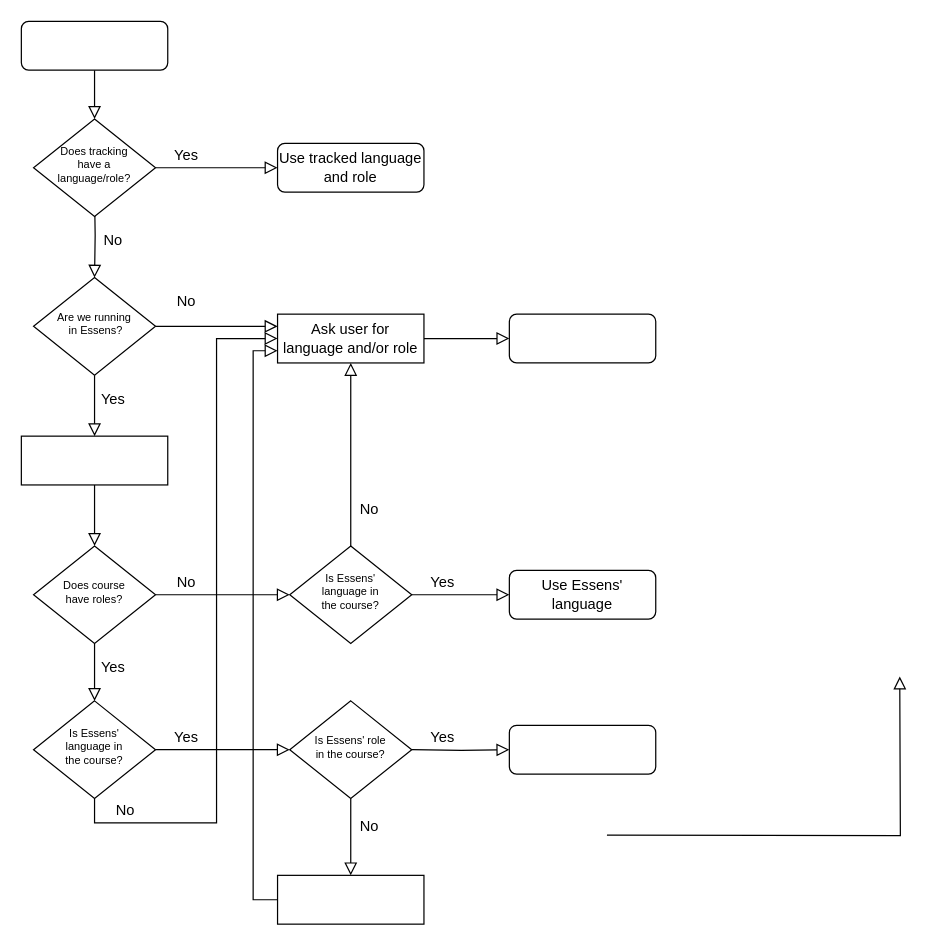
Some shapes in this 935 by 946 pixel diagram are drawn without their labels. Each missing label, with the centre of its shape:
"Ask Essens for language and role" belongs at point 94,460.
"Mark Essens' language as selected" belongs at point 350,899.
"Select language and role" belongs at point 94,45.
"Use Essens' language and role" belongs at point 582,749.
"Use users language and/or role" belongs at point 582,338.
